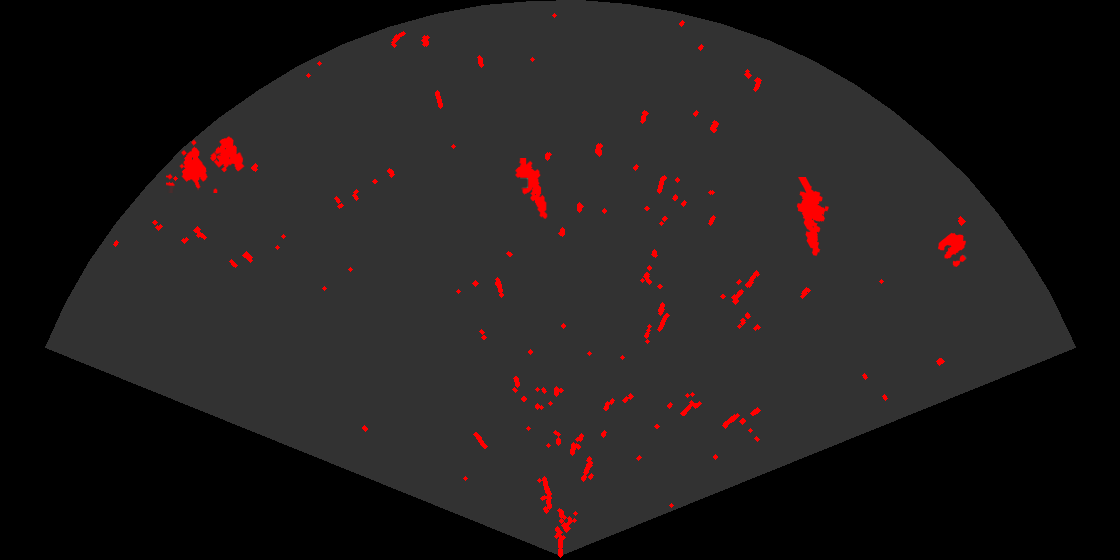ball: (936, 231, 968, 269)
cage: (166, 135, 246, 193)
frogman: (795, 177, 831, 257), (514, 158, 549, 219)
